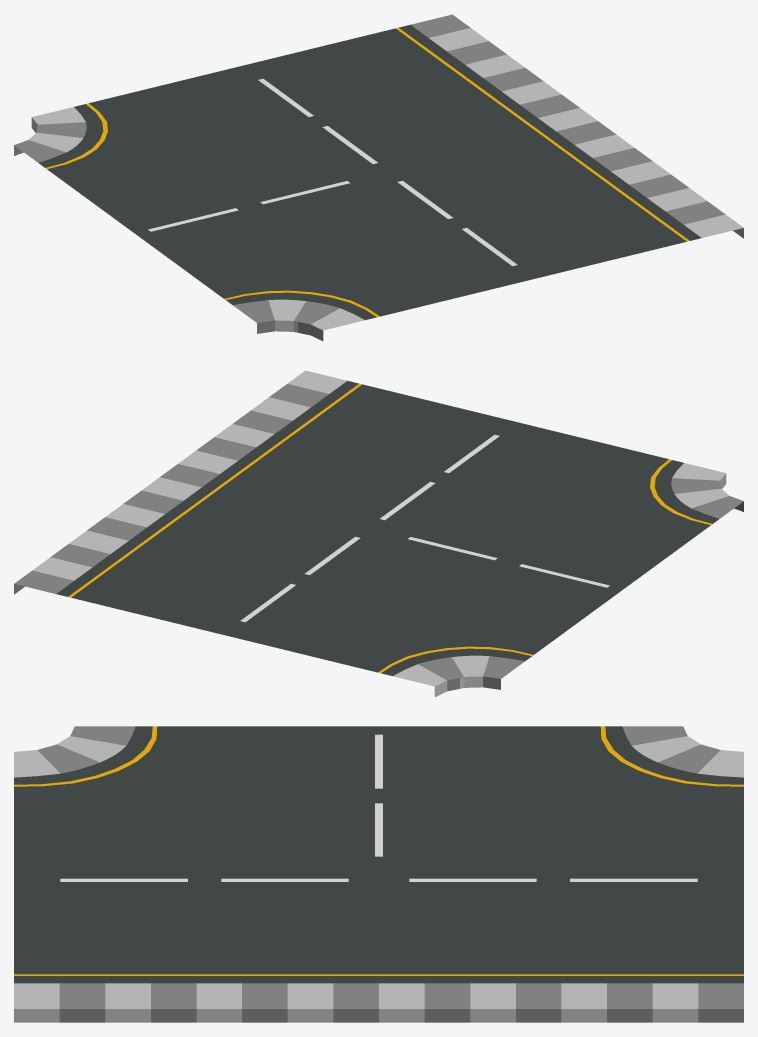
The model's file is SM_Road_08_B.FBX.
The picture shows the model from 3 angles, top to bottom: view 1: azimuth 30°, elevation 25°; view 2: azimuth 150°, elevation 25°; view 3: azimuth 270°, elevation 25°; orthographic projection. The views are drawn at different scales.
Visible parts, largest first — view 1: SM_Road_08_B; view 2: SM_Road_08_B; view 3: SM_Road_08_B.
Part boxes in pixels (x1,y1,x2,y2): SM_Road_08_B: (14,14,743,340); SM_Road_08_B: (14,370,743,696); SM_Road_08_B: (14,726,743,1022).
Size of what is drawn, in the model's own units: 1100 by 1200 by 25.
